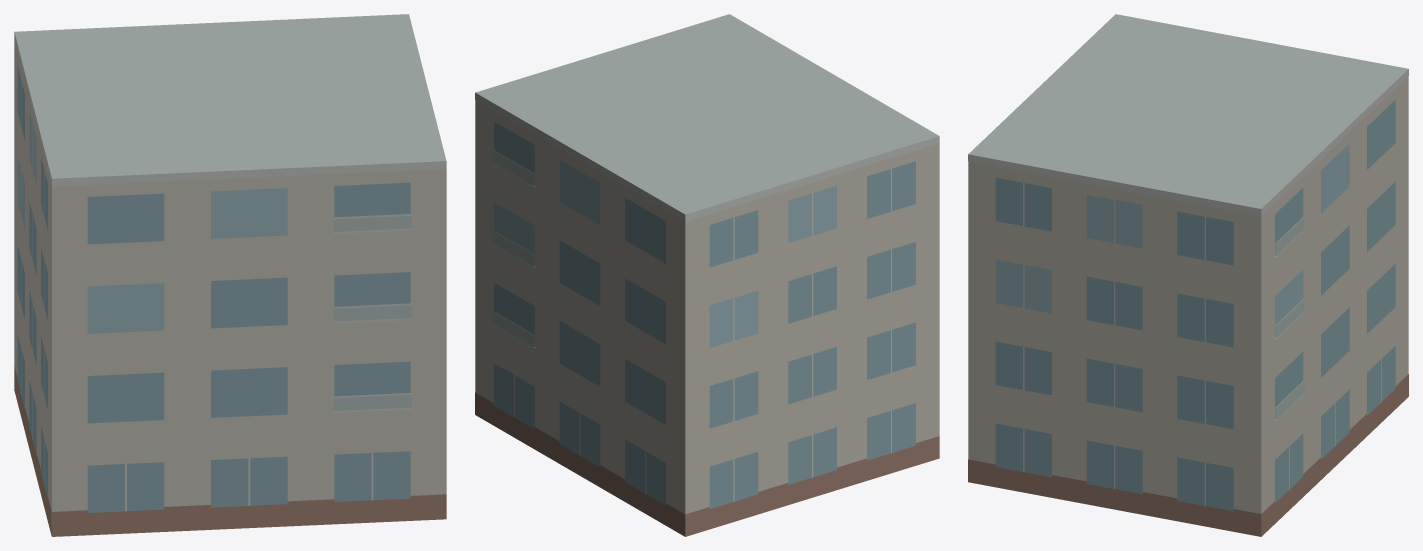
The model's file is survey-upis-33044151.glb.
3 views of the same model, side by side, from view 1: azimuth 30°, elevation 25°; view 2: azimuth 150°, elevation 25°; view 3: azimuth 270°, elevation 25° (orthographic). The views are drawn at different scales.
Visible parts, largest first — view 1: survey-upis-33044151.tmp; view 2: survey-upis-33044151.tmp; view 3: survey-upis-33044151.tmp.
Boxes of the visible parts, x1,y1,x2,y2 form: survey-upis-33044151.tmp: [14, 14, 446, 536]; survey-upis-33044151.tmp: [475, 14, 939, 536]; survey-upis-33044151.tmp: [968, 14, 1408, 536].
Size of the model in its own units: 14.24 by 11.15 by 13.59.
